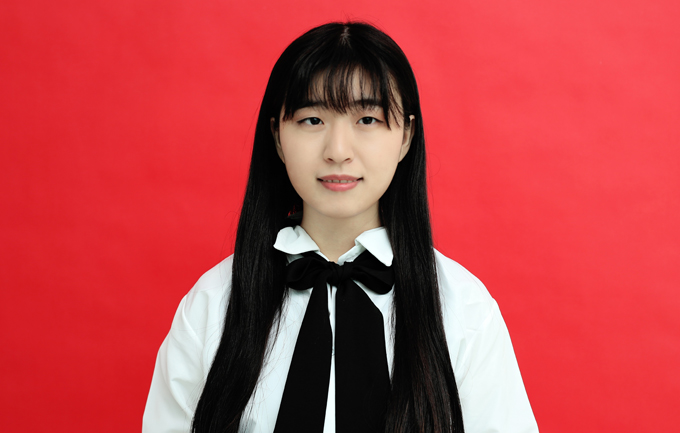unmask: (283, 68, 406, 212)
